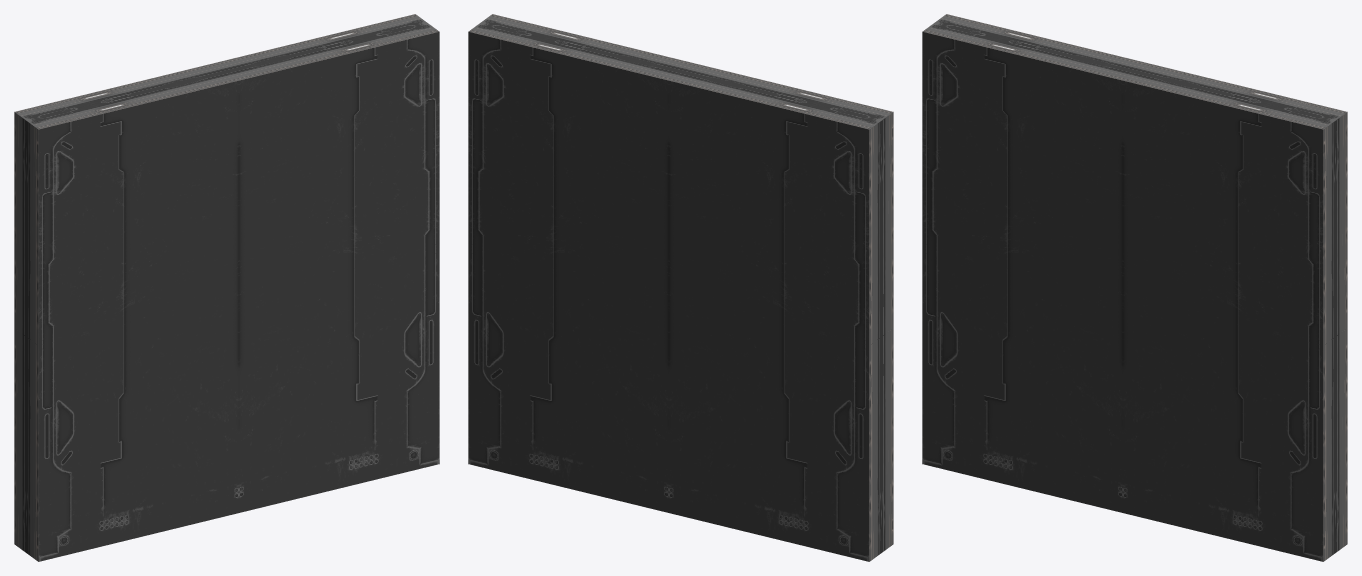
Rendered from S_DoorFrameSquareBlocked.gltf.
3 renders of one model, left to right at view 1: azimuth 30°, elevation 25°; view 2: azimuth 150°, elevation 25°; view 3: azimuth 330°, elevation 25°, orthographic.
Parts seen in each view (by area): view 1: Cube_213-col; view 2: Cube_213-col; view 3: Cube_213-col.
Boxes of the visible parts, bbox=[...] form: Cube_213-col: bbox=[14, 14, 439, 561]; Cube_213-col: bbox=[468, 14, 893, 561]; Cube_213-col: bbox=[922, 14, 1347, 561].
Size of the model in its own units: 4.85 by 5 by 0.5068.
Materials: 1 (1 with a texture image).
